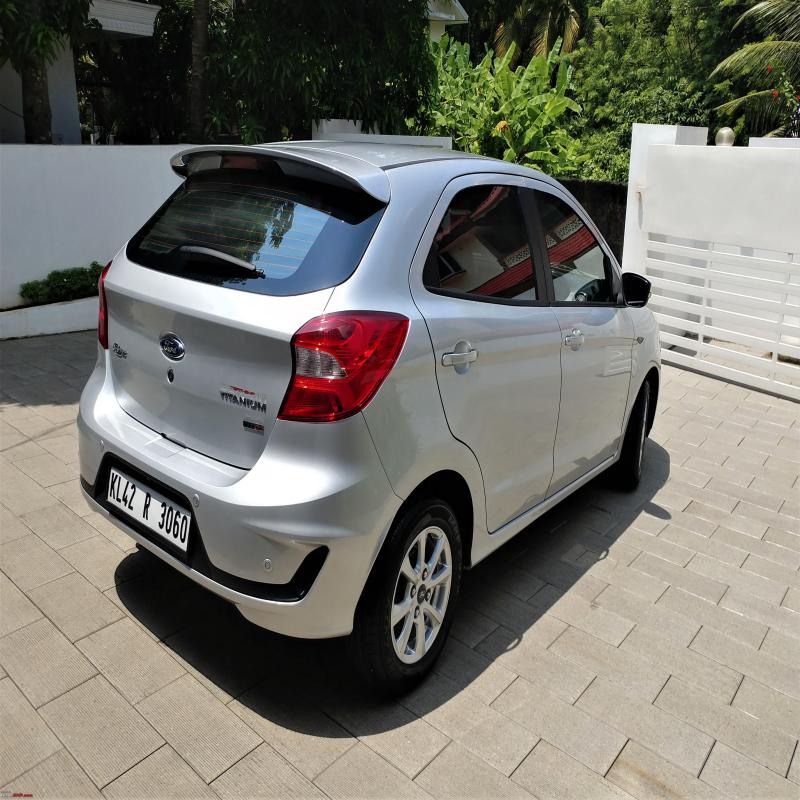car: (71, 104, 671, 661)
